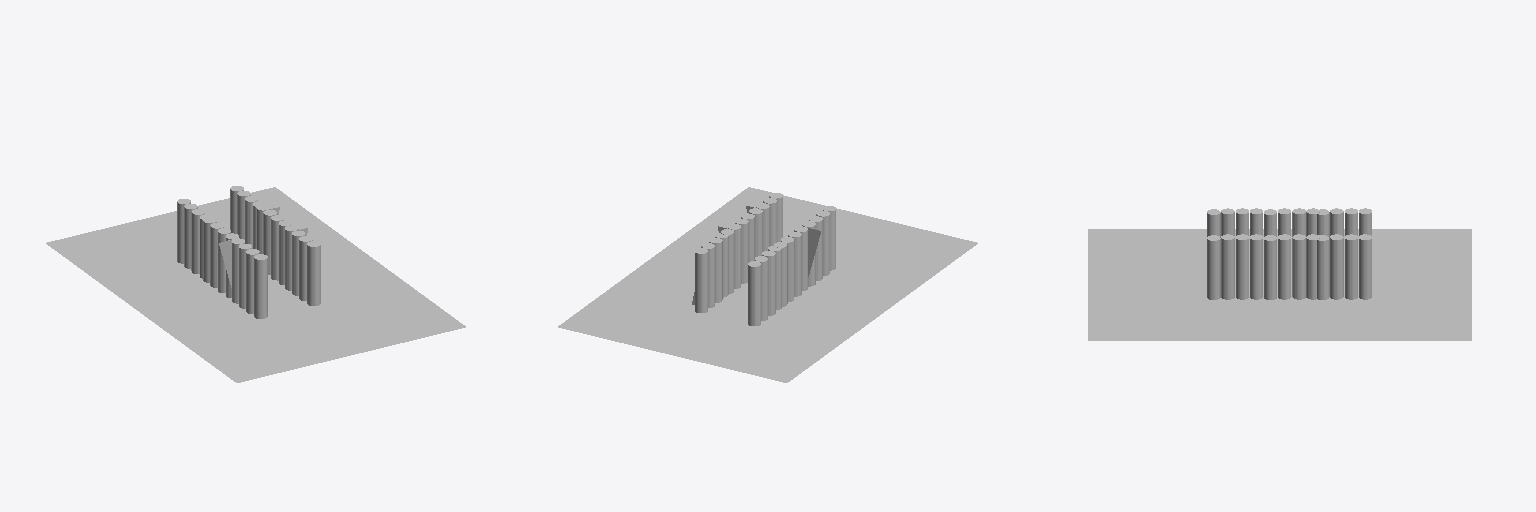
The model's file is groundPlane.obj.
The picture shows the model from 3 angles: view 1: azimuth 30°, elevation 25°; view 2: azimuth 150°, elevation 25°; view 3: azimuth 270°, elevation 25°; orthographic projection.
Visible parts, largest first — view 1: groundPlane; view 2: groundPlane; view 3: groundPlane.
Boxes of the visible parts, <box> form: groundPlane: <box>46,186,465,382</box>; groundPlane: <box>558,187,977,382</box>; groundPlane: <box>1088,208,1471,340</box>.
Bounding box in the file's own units: 38.67 × 9.76 × 55.8.